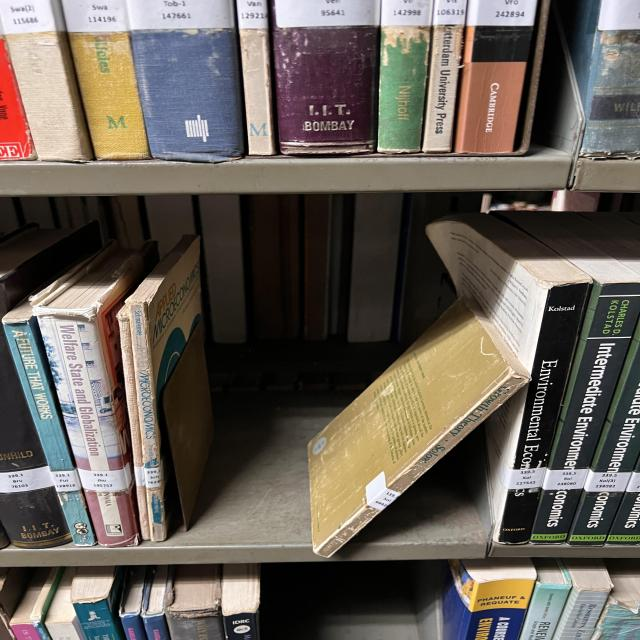Book: (308, 299, 530, 556), (427, 214, 592, 544), (512, 214, 640, 544), (32, 242, 158, 546), (123, 235, 202, 541), (2, 299, 97, 546), (127, 0, 245, 162), (272, 0, 380, 155), (567, 325, 640, 545), (0, 331, 72, 549), (62, 0, 152, 160), (455, 0, 537, 152), (560, 0, 640, 155), (378, 0, 433, 154), (443, 559, 537, 640), (422, 0, 467, 152), (237, 0, 277, 155), (552, 559, 613, 640), (0, 35, 37, 160), (165, 565, 225, 640), (518, 558, 572, 640), (70, 566, 125, 640), (592, 560, 640, 640), (222, 564, 260, 640), (45, 568, 85, 640), (607, 460, 640, 544), (30, 566, 65, 640), (142, 565, 172, 640), (118, 566, 147, 640), (12, 624, 42, 640), (617, 445, 618, 446)
Label: (127, 0, 235, 30), (275, 0, 380, 28), (62, 0, 128, 32), (467, 0, 537, 26), (78, 464, 132, 492), (0, 466, 55, 492), (365, 471, 400, 511), (380, 0, 433, 26), (598, 0, 640, 30), (500, 464, 547, 489), (583, 470, 632, 492), (542, 469, 588, 490), (237, 0, 268, 29), (433, 0, 467, 25), (50, 470, 82, 492), (145, 468, 160, 489), (625, 471, 640, 492)
